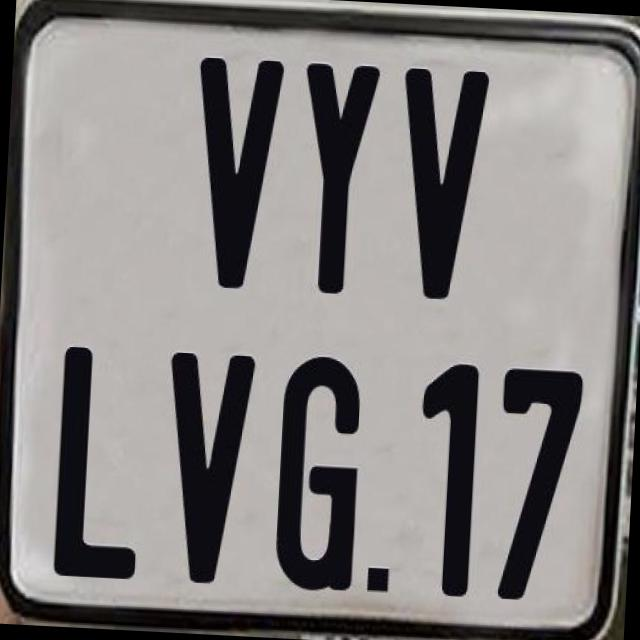1: (409, 362, 479, 598)
7: (490, 365, 586, 607)
G: (270, 352, 360, 590)
L: (52, 343, 146, 581)
V: (392, 64, 491, 306), (186, 57, 288, 290), (157, 352, 258, 587)
Y: (290, 57, 378, 296)
